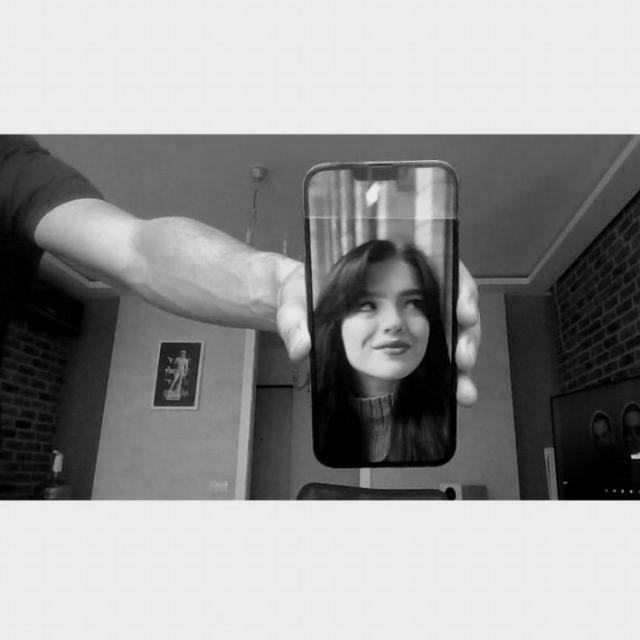fake: (295, 154, 474, 477)
